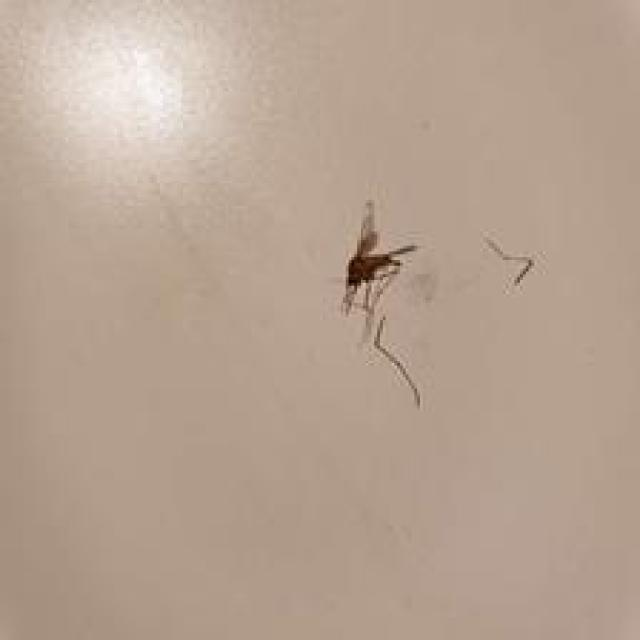Culex: (338, 197, 422, 409)
